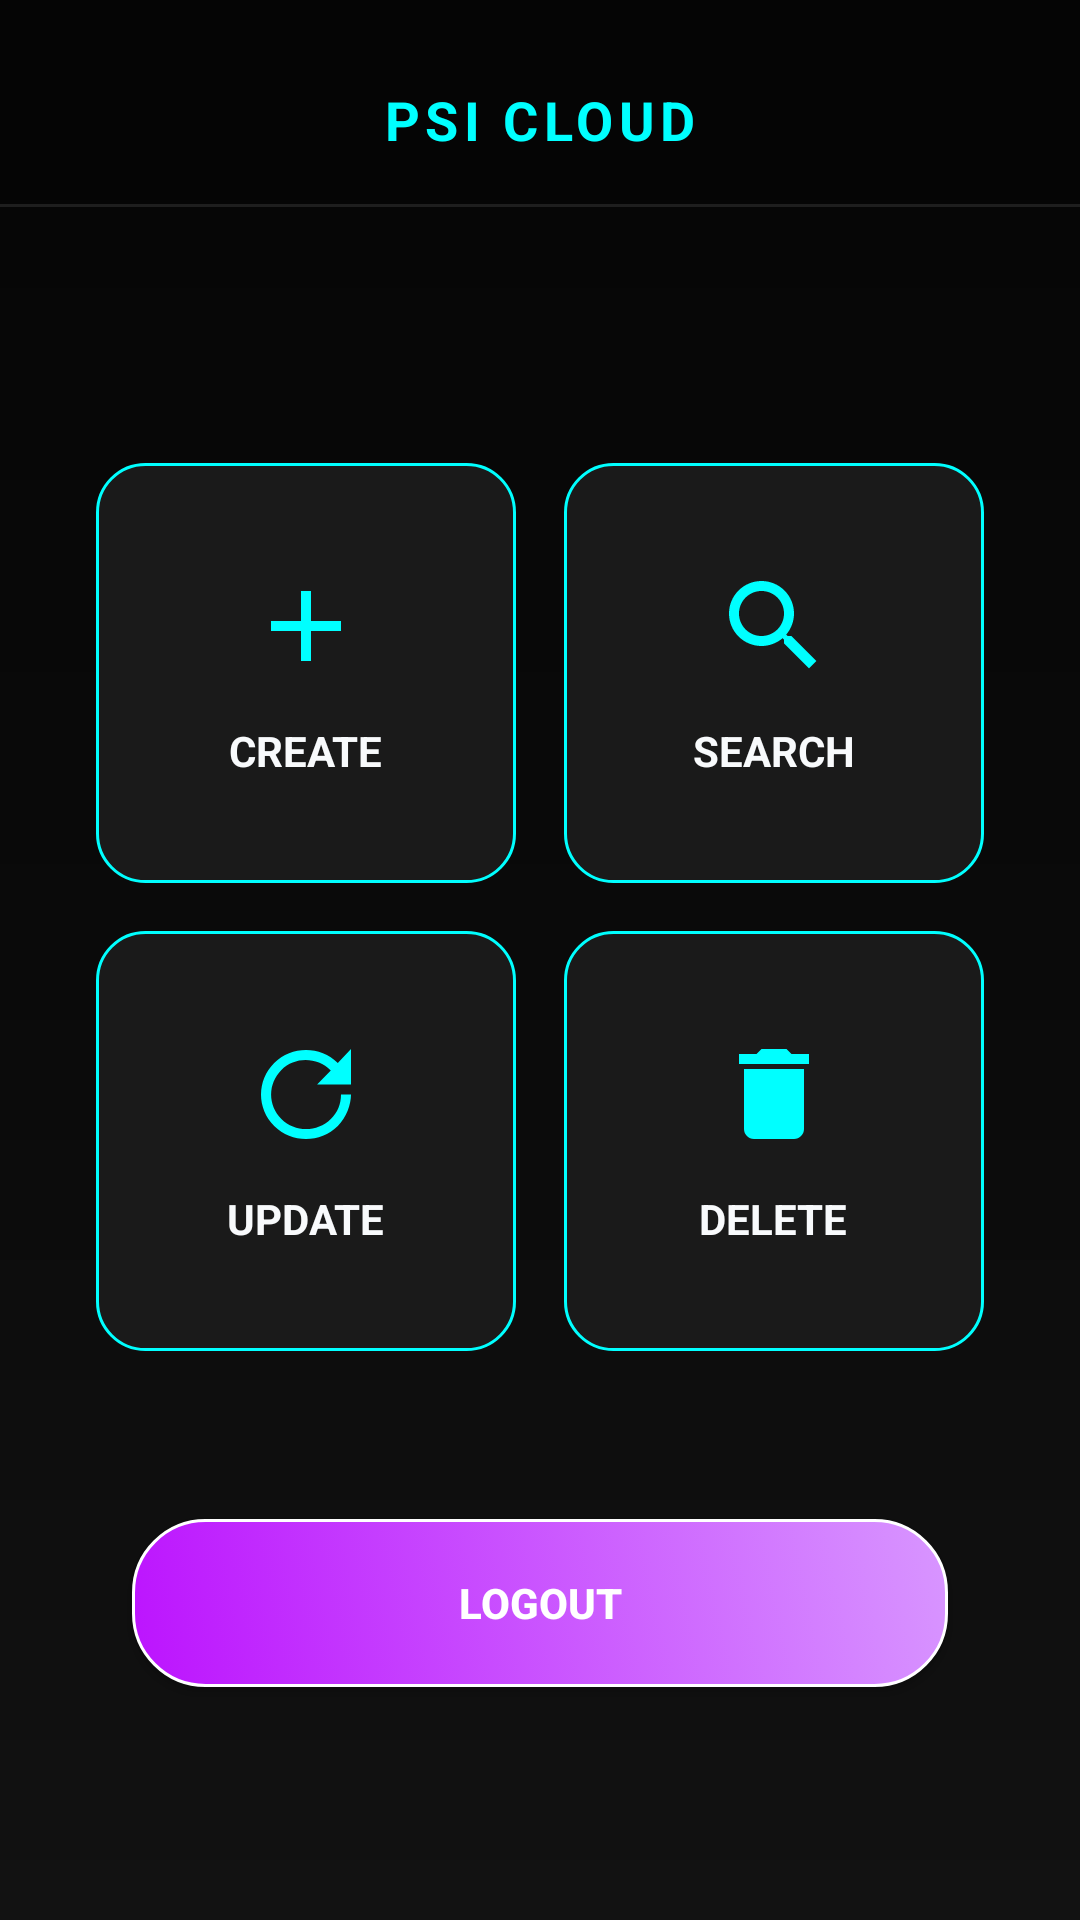

Screen size 1080w x 1920h. Icon name, then its box in pixels as [left=x1, top=y1, right=x2, bottom=y2]:
add gold: [left=271, top=591, right=341, bottom=661]
